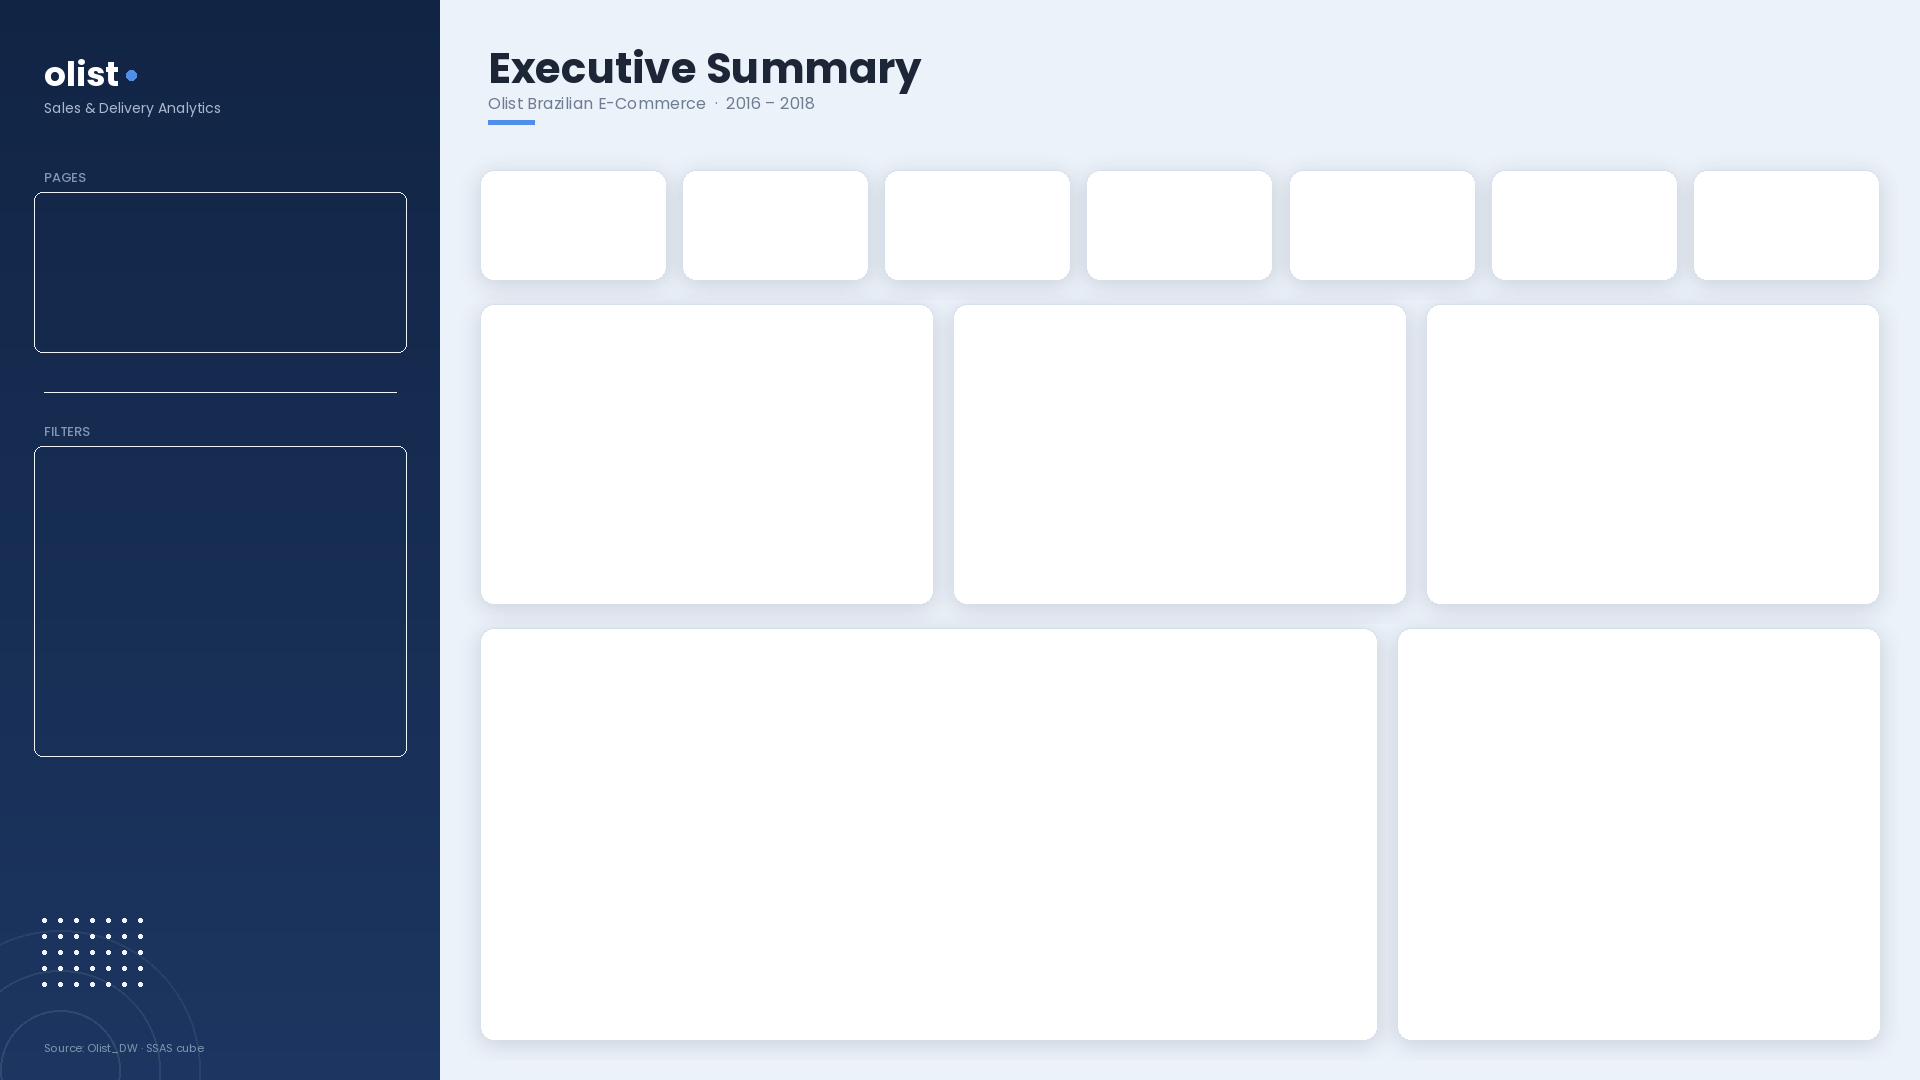

The page's visual inventory and layout, read from the dashboard file:
{"tool":"powerbi","page":{"name":"Executive Summary","canvas":[1920,1080],"ordinal":0},"visuals":[{"type":"cardVisual","fields":{"Data":["Fact Sales.Revenue"]},"box":[486.2,175,171.2,92.5],"z":0},{"type":"cardVisual","fields":{"Data":["Fact Order Fulfilment.Sales Orders"]},"box":[690,175,167.5,92.5],"z":1000},{"type":"cardVisual","fields":{"Data":["Fact Sales.Items Sold"]},"box":[889,175,177,93],"z":2000},{"type":"cardVisual","fields":{"Data":["Measures.Avg Delivery Days"]},"box":[1092,175,174,93],"z":3000},{"type":"cardVisual","fields":{"Data":["Measures.Avg Review Score"]},"box":[1300,175,166.2,92.5],"z":4000},{"type":"lineStackedColumnComboChart","fields":{"Category":["Date.Hierarchy.Year Label","Date.Hierarchy.Year Quarter","Date.Hierarchy.Year Month"],"Y":["Fact Order Fulfilment.Sales Orders"]},"box":[486,628,884,404],"z":5000},{"type":"clusteredBarChart","fields":{"Category":["Product.Hierarchy.Category Name En"],"Y":["Fact Sales.Revenue"]},"box":[1402,628,468,404],"z":6000},{"type":"slicer","fields":{"Values":["Customer Location.Hierarchy.State City"]},"box":[50,552,340,90],"z":7000},{"type":"slicer","fields":{"Values":["Product.Hierarchy.Category Name En"]},"box":[50,654,340,86],"z":8000},{"type":"slicer","fields":{"Values":["Date.Hierarchy.Year Label"]},"box":[50,452,340,88],"z":9000},{"type":"pageNavigator","box":[35,190,370.8,158.3],"z":10000},{"type":"cardVisual","fields":{"Data":["Fact Sales.Freight"]},"box":[1702,176,168,92],"z":11000},{"type":"cardVisual","fields":{"Data":["Fact Order Fulfilment.Late Delivery %"]},"box":[1500,176,168,94],"z":12000},{"type":"donutChart","fields":{"Category":["Customer Location.Hierarchy.State Label","Payment Type.Hierarchy.Payment Group"],"Y":["Fact Order Fulfilment.Sales Orders"]},"box":[486,304,916,294],"z":13000},{"type":"clusteredBarChart","fields":{"Category":["Seller.Seller"],"Y":["Fact Sales.Revenue"]},"box":[1431.7,303.3,438.3,293.3],"z":14000}]}

Visuals, with their boxes on the page's 1920x1080 design canvas (x1, y1, x2, y2). These are canvas units, not pixel positions in the 1920x1080 screenshot, which may show the page scaled, cropped or inside an application window:
cardVisual - Fact Sales.Revenue: region(486, 175, 657, 268)
cardVisual - Fact Order Fulfilment.Sales Orders: region(690, 175, 858, 268)
cardVisual - Fact Sales.Items Sold: region(889, 175, 1066, 268)
cardVisual - Measures.Avg Delivery Days: region(1092, 175, 1266, 268)
cardVisual - Measures.Avg Review Score: region(1300, 175, 1466, 268)
lineStackedColumnComboChart - Date.Hierarchy.Year Label x Date.Hierarchy.Year Quarter: region(486, 628, 1370, 1032)
clusteredBarChart - Product.Hierarchy.Category Name En x Fact Sales.Revenue: region(1402, 628, 1870, 1032)
slicer - Customer Location.Hierarchy.State City: region(50, 552, 390, 642)
slicer - Product.Hierarchy.Category Name En: region(50, 654, 390, 740)
slicer - Date.Hierarchy.Year Label: region(50, 452, 390, 540)
pageNavigator: region(35, 190, 406, 348)
cardVisual - Fact Sales.Freight: region(1702, 176, 1870, 268)
cardVisual - Fact Order Fulfilment.Late Delivery %: region(1500, 176, 1668, 270)
donutChart - Customer Location.Hierarchy.State Label x Payment Type.Hierarchy.Payment Group: region(486, 304, 1402, 598)
clusteredBarChart - Seller.Seller x Fact Sales.Revenue: region(1432, 303, 1870, 597)
